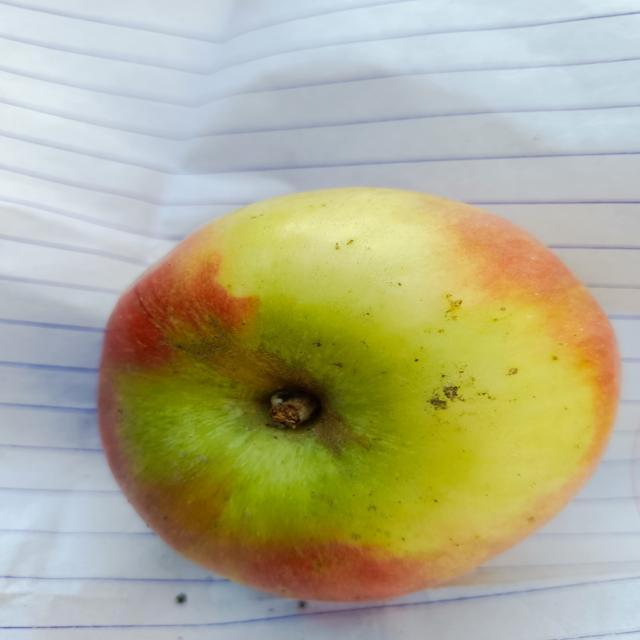Fresh Apple: (60, 195, 618, 588)
